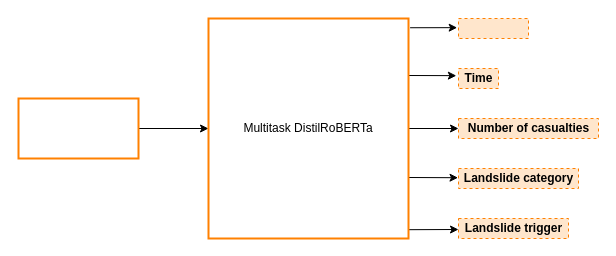
The diagram is 616 pixels wide and 256 high, and some of its shapes have lost their labels. The centre of each missing label's shape, as x and y in pixels:
Articles: pixel 78 128
Location: pixel 493 28
